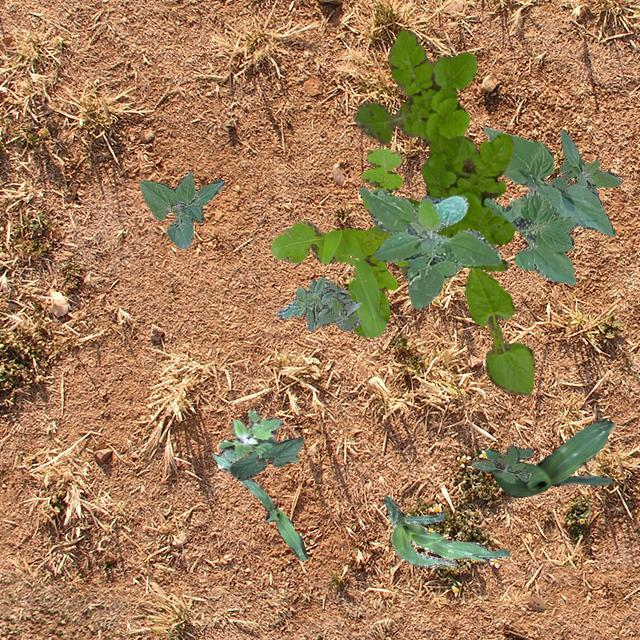crop: (482, 126, 614, 284), (358, 185, 500, 308), (484, 418, 614, 496), (212, 454, 306, 560), (382, 494, 508, 566), (464, 267, 534, 393), (138, 170, 224, 248), (228, 436, 302, 480)
weed: (354, 28, 514, 270), (270, 146, 408, 336), (216, 408, 298, 468), (548, 128, 620, 196), (276, 276, 360, 330), (470, 444, 532, 482)
